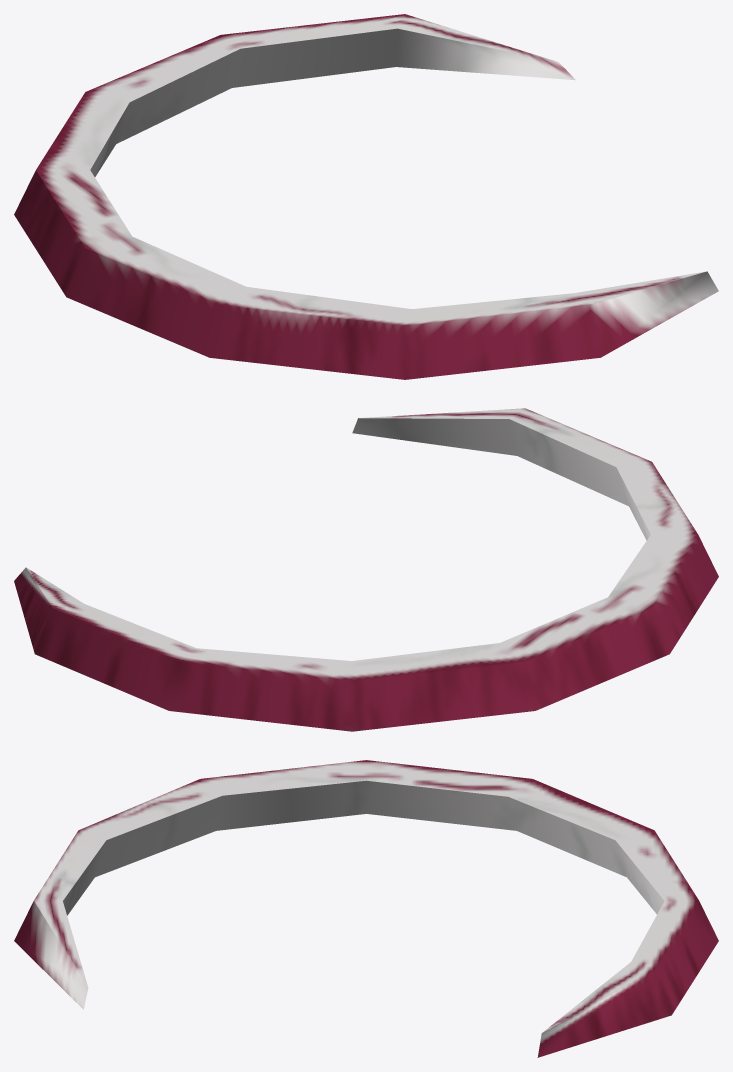
Rendered from onion02.FBX.
3 views of the same model, one above another, from view 1: azimuth 30°, elevation 25°; view 2: azimuth 150°, elevation 25°; view 3: azimuth 270°, elevation 25° (orthographic). The views are drawn at different scales.
Visible parts, largest first — view 1: onion02; view 2: onion02; view 3: onion02.
Part boxes in pixels (x1,y1,x2,y2): onion02: [14, 14, 718, 379]; onion02: [14, 408, 718, 731]; onion02: [14, 760, 718, 1057].
Size of the model in its own units: 6.19 by 0.4369 by 6.94.
